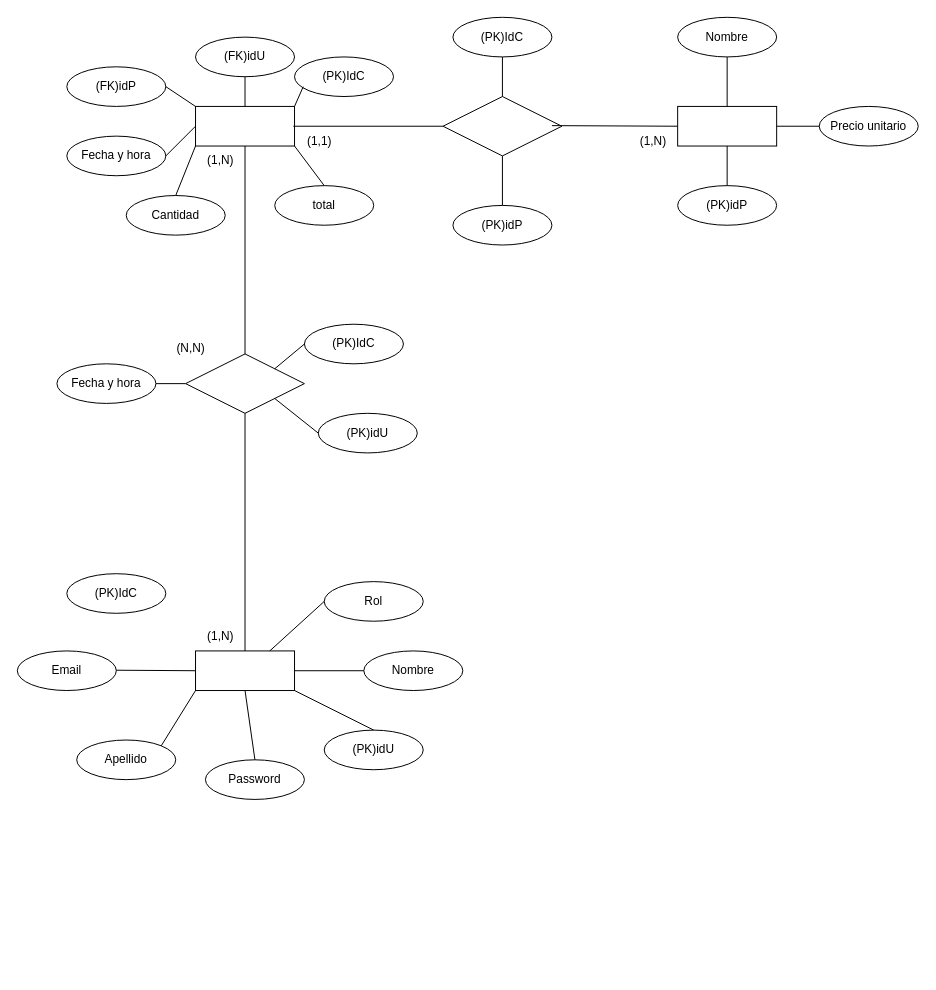
Some shapes in this 936 by 990 pixel diagram are drawn without their labels. Here are the shapes that lost their labels. From the top down, the centre of each, then its label:
At pixel 245 125: "Compra".
At pixel 502 126: "Incluye".
At pixel 727 125: "Producto".
At pixel 244 383: "Realiza".
At pixel 245 670: "Usuario".
